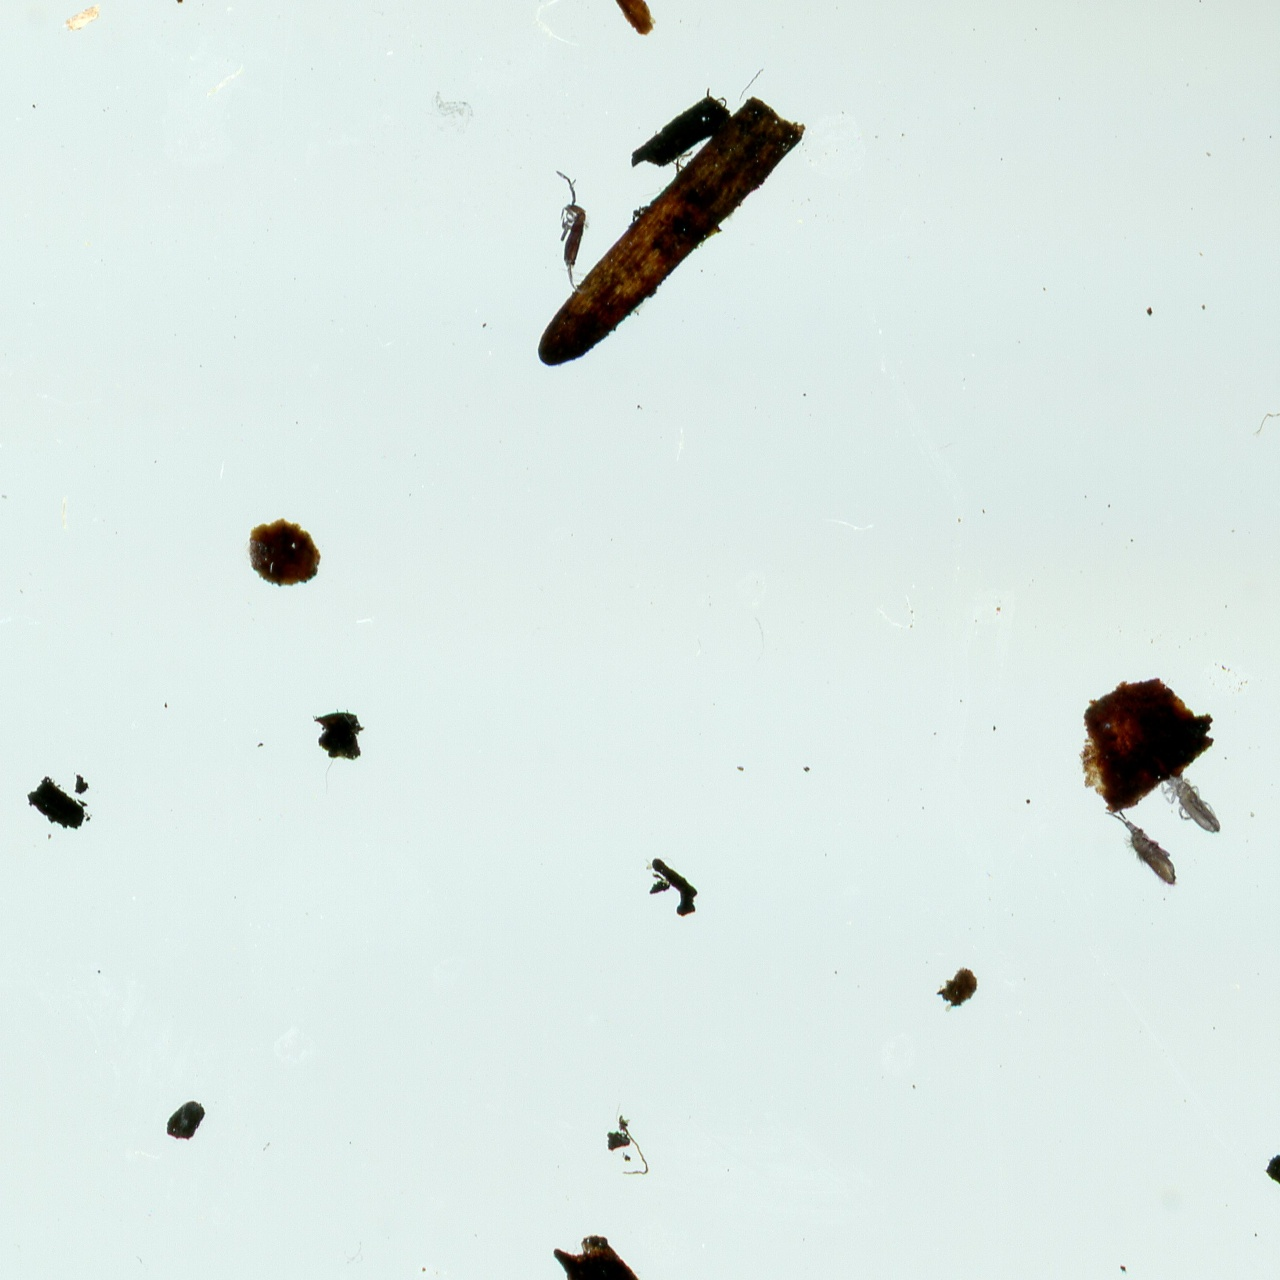arthropod: (1092, 783, 1200, 911), (1142, 749, 1238, 857), (546, 157, 597, 293)
